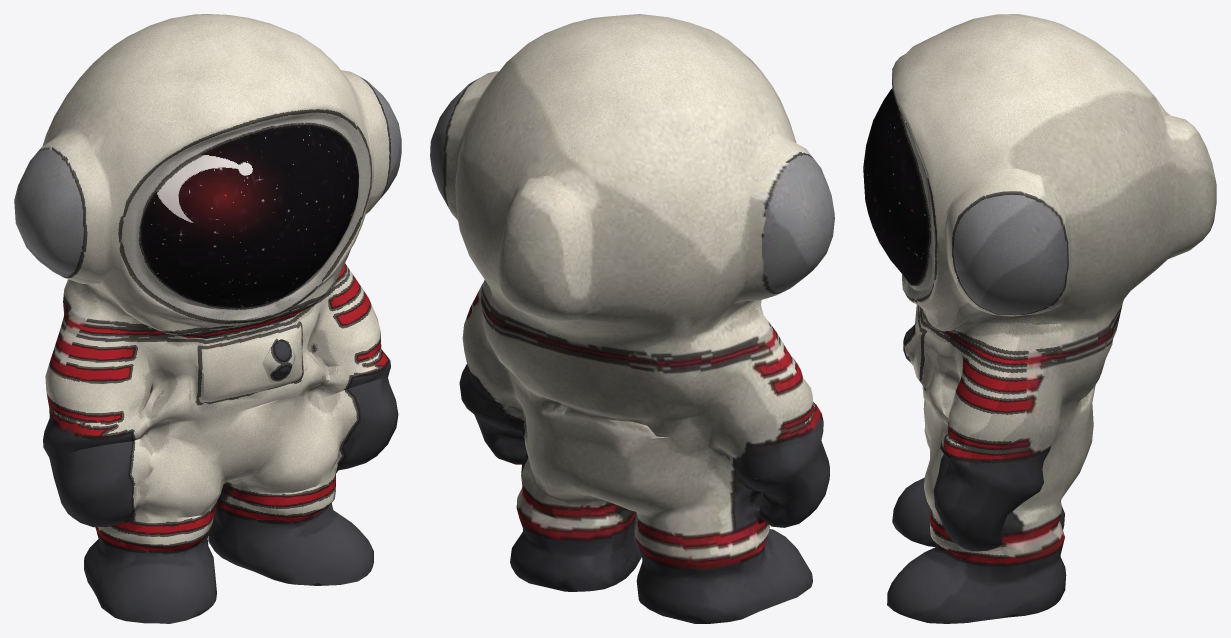
File: astronauta.Dy4iPdAg.glb
3 renders of one model, left to right at view 1: azimuth 30°, elevation 25°; view 2: azimuth 150°, elevation 25°; view 3: azimuth 270°, elevation 25°, orthographic. The views are drawn at different scales.
Parts seen in each view (by area): view 1: Astronauta; view 2: Astronauta; view 3: Astronauta.
Boxes of the visible parts, x1,y1,x2,y2 form: Astronauta: (14,14,401,623); Astronauta: (430,14,834,623); Astronauta: (863,14,1216,623).
Bounding box in the file's own units: 0.7218 × 1 × 0.602.
Materials: 1 (1 with a texture image).
